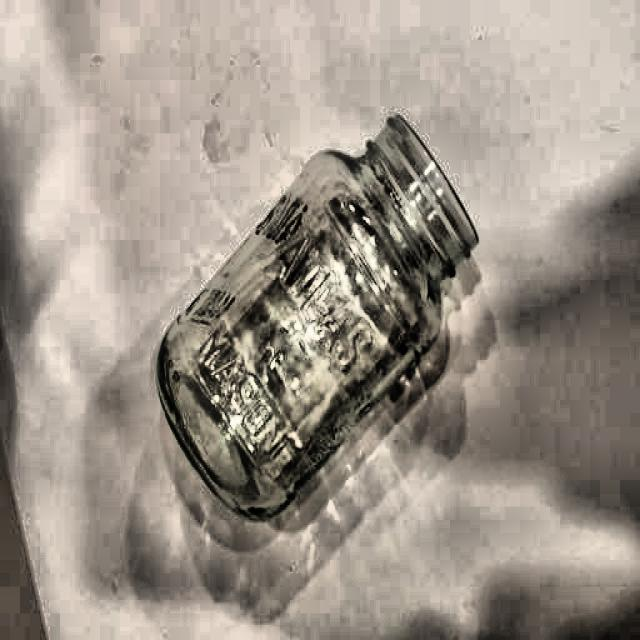glass: (152, 101, 481, 533)
